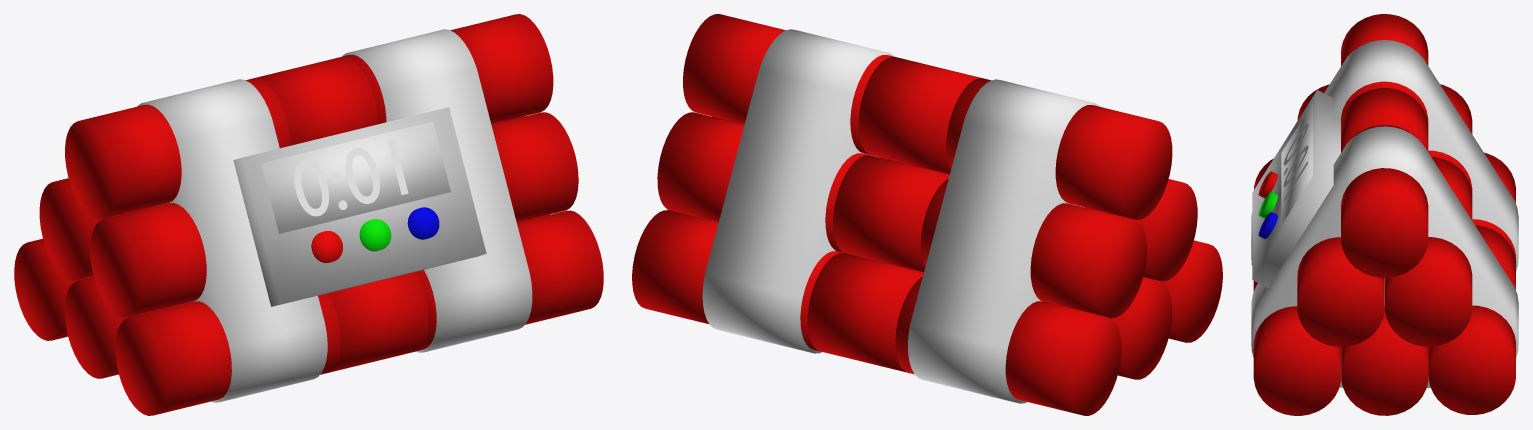
The model's file is Bomb.fbx.
The picture shows the model from 3 angles, left to right: view 1: azimuth 30°, elevation 25°; view 2: azimuth 150°, elevation 25°; view 3: azimuth 270°, elevation 25°; orthographic projection. The views are drawn at different scales.
Parts seen in each view (by area): view 1: polySurface1; view 2: polySurface1; view 3: polySurface1.
Part boxes in pixels (x1,y1,x2,y2): polySurface1: [14, 14, 603, 415]; polySurface1: [632, 14, 1222, 415]; polySurface1: [1251, 14, 1518, 415].
Size of the model in its own units: 3.64 by 2.03 by 2.22.
